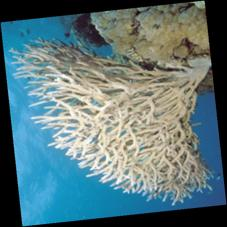bleached_corals: (0, 38, 225, 208)
